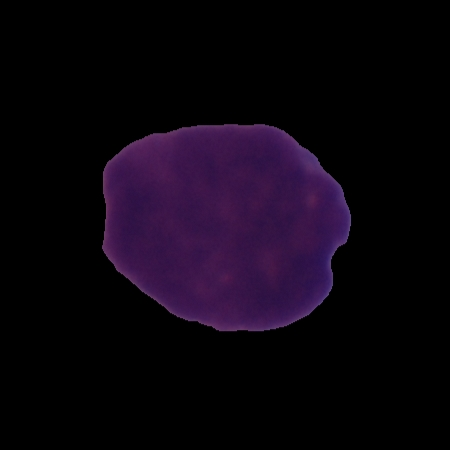ALL: (98, 120, 354, 333)
